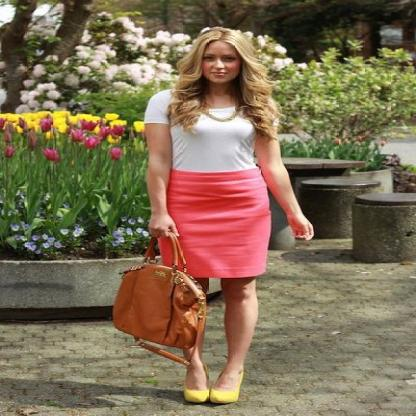bag: (111, 258, 207, 366)
shirt: (144, 89, 260, 174)
shoe: (178, 382, 238, 401)
skirt: (149, 169, 283, 279)
